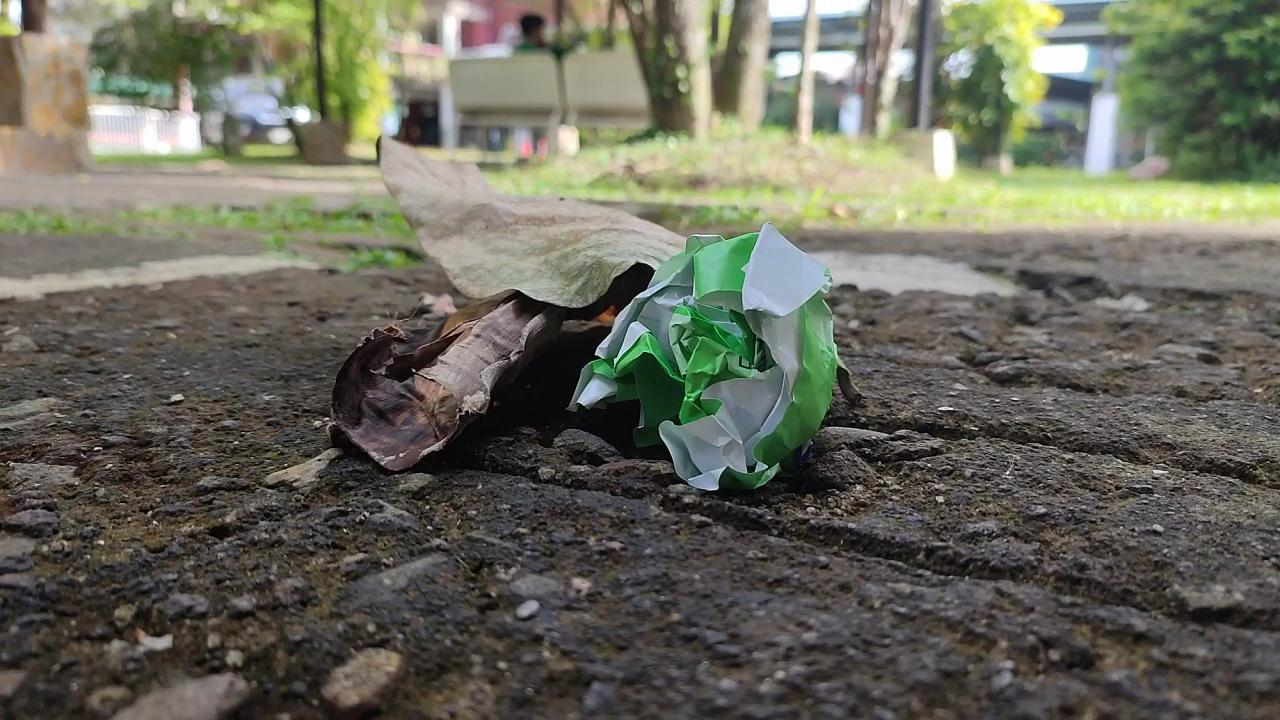Paper: (551, 197, 854, 510)
